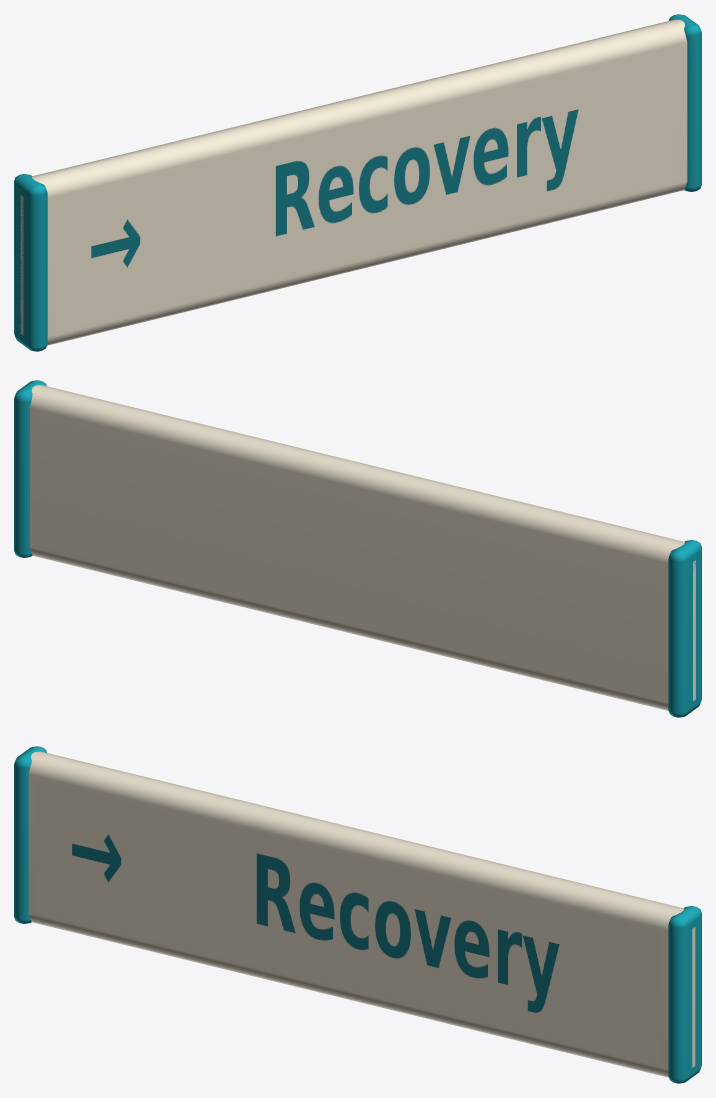
The model's file is Entrance_Sign_Recovery.glb.
3 renders of one model, top to bottom at view 1: azimuth 30°, elevation 25°; view 2: azimuth 150°, elevation 25°; view 3: azimuth 330°, elevation 25°, orthographic.
Parts seen in each view (by area): view 1: Entrance_Sign_Recovery__Entrance_Opaque_Graphics_Atlas, Entrance_Sign_Recovery__CRNA_Shared_Matte_Atlas; view 2: Entrance_Sign_Recovery__CRNA_Shared_Matte_Atlas; view 3: Entrance_Sign_Recovery__Entrance_Opaque_Graphics_Atlas, Entrance_Sign_Recovery__CRNA_Shared_Matte_Atlas.
Part boxes in pixels (x1,y1,x2,y2): Entrance_Sign_Recovery__Entrance_Opaque_Graphics_Atlas: [55, 46, 679, 333]; Entrance_Sign_Recovery__CRNA_Shared_Matte_Atlas: [14, 14, 701, 351]; Entrance_Sign_Recovery__CRNA_Shared_Matte_Atlas: [14, 380, 701, 717]; Entrance_Sign_Recovery__Entrance_Opaque_Graphics_Atlas: [36, 778, 660, 1065]; Entrance_Sign_Recovery__CRNA_Shared_Matte_Atlas: [14, 746, 701, 1083].
Size of the model in its own units: 1.12 by 0.265 by 0.064.
2 materials, 2 textured.
